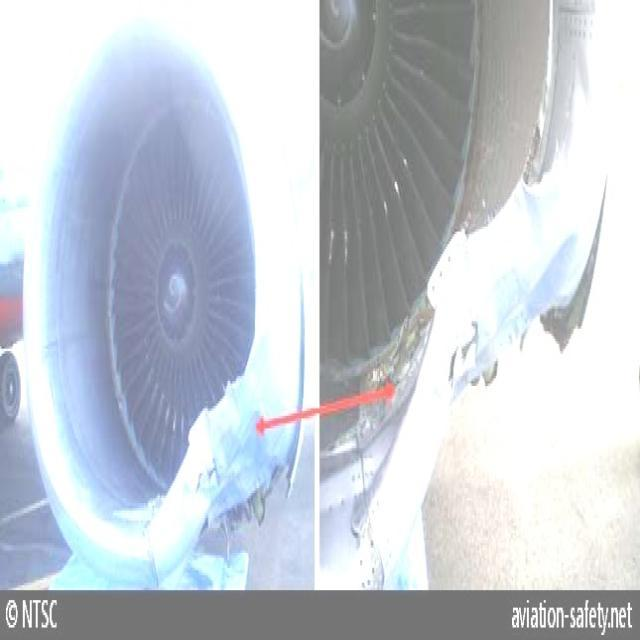dent: (574, 44, 595, 126)
